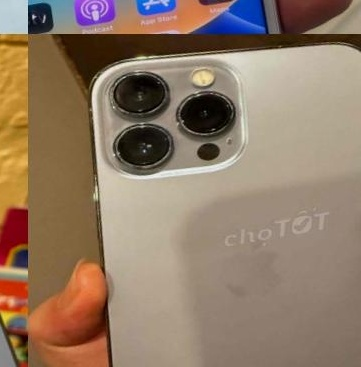scratch: (28, 0, 324, 34)
